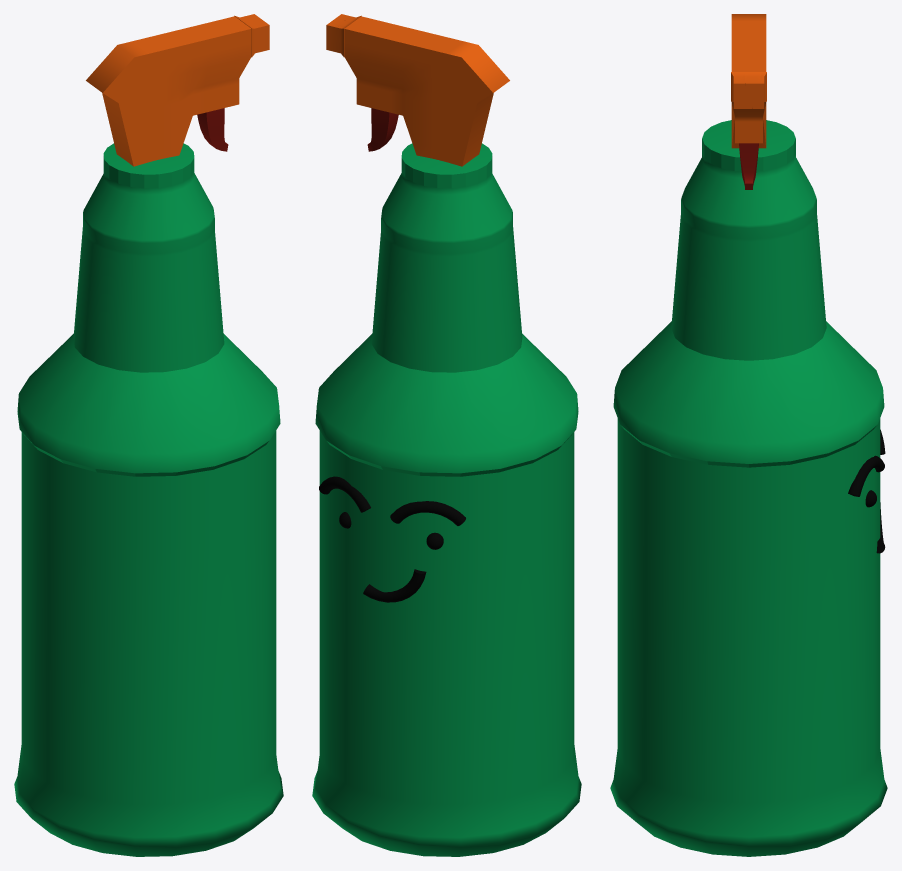
File: spray bottle.obj
3 views of the same model, side by side, from view 1: azimuth 30°, elevation 25°; view 2: azimuth 150°, elevation 25°; view 3: azimuth 270°, elevation 25° (orthographic). The views are drawn at different scales.
Parts seen in each view (by area): view 1: pCylinder1, pCube1, pCylinder2; view 2: pCylinder1, pCube1, pCylinder5, pCylinder2, pCylinder3, pCylinder4; view 3: pCylinder1, pCube1, pCylinder2, pCylinder4.
Boxes of the visible parts, x1,y1,x2,y2 form: pCylinder1: (14, 143, 283, 856); pCube1: (86, 14, 269, 166); pCylinder2: (197, 108, 228, 151); pCylinder1: (312, 143, 581, 856); pCube1: (326, 14, 509, 166); pCylinder5: (390, 501, 465, 525); pCylinder2: (367, 108, 398, 151); pCylinder3: (363, 569, 426, 602); pCylinder4: (319, 476, 370, 512); pCylinder1: (610, 120, 887, 856); pCube1: (731, 14, 766, 148); pCylinder2: (739, 143, 758, 189); pCylinder4: (848, 455, 884, 496).
Size of the model in its own units: 2 by 6.22 by 2.
